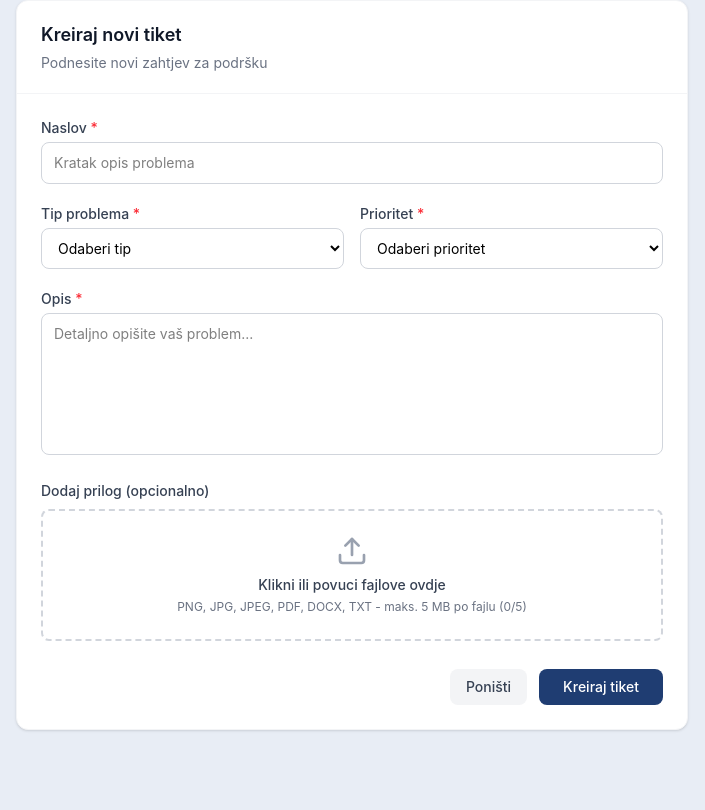
Test: CreateTicket page › shows success message after ticket is created
In the field labelled "Naslov *": (352, 163) [41, 142, 663, 184], type "Internet problem"
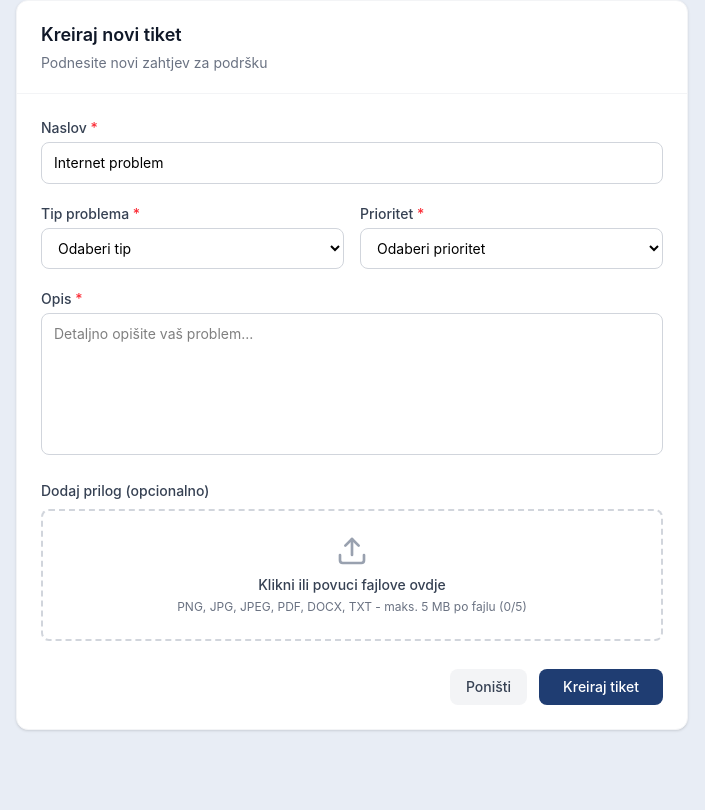
Select "Internet" in the dropdown labelled "Tip problema *": (192, 248) [41, 228, 344, 269]
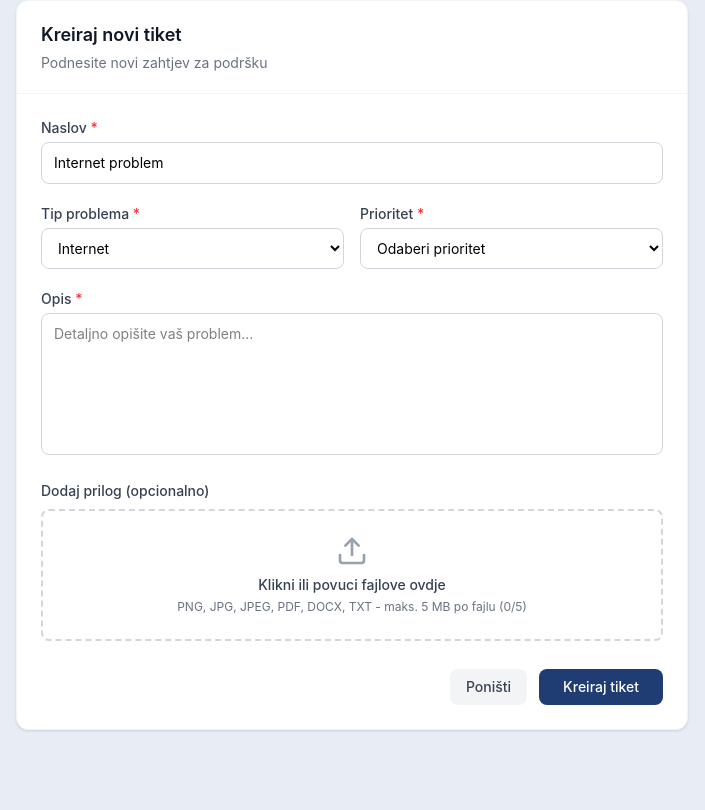
In the text box labelled "Opis *": (352, 384) [41, 313, 663, 455], type "Ne radi internet"
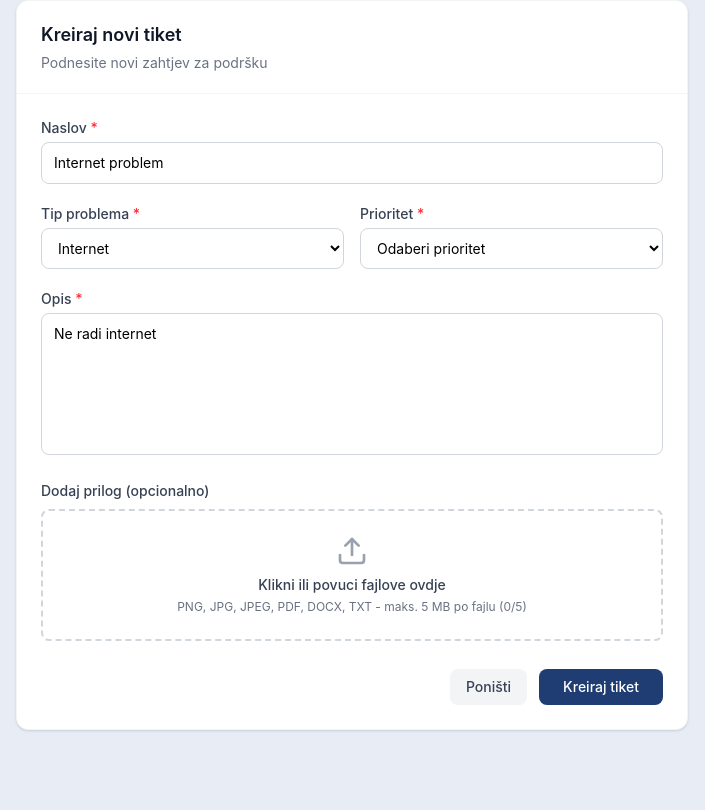
Select "Visok" in the dropdown labelled "Prioritet *": (512, 248) [360, 228, 663, 269]
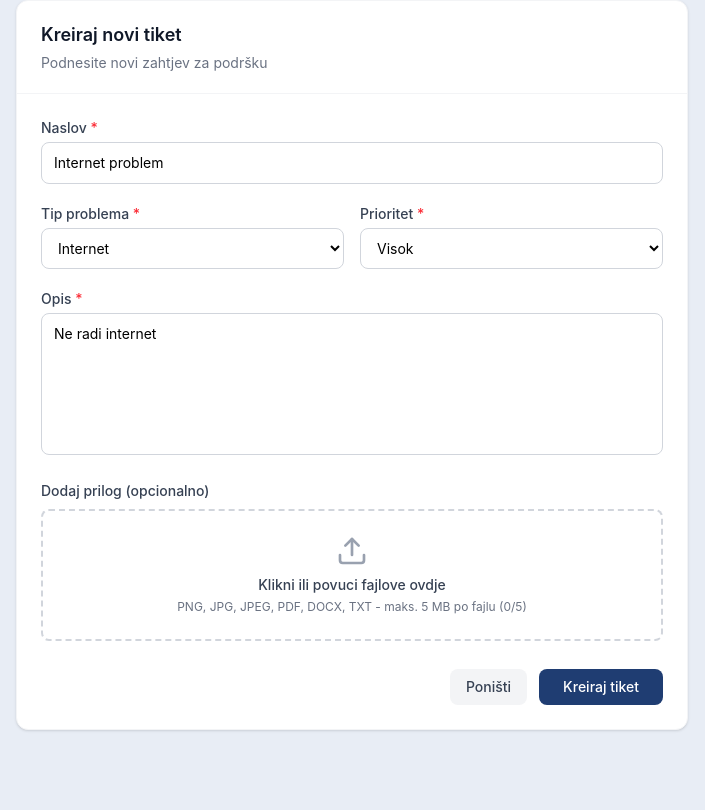
Submit the form named "kreiraj tiket"
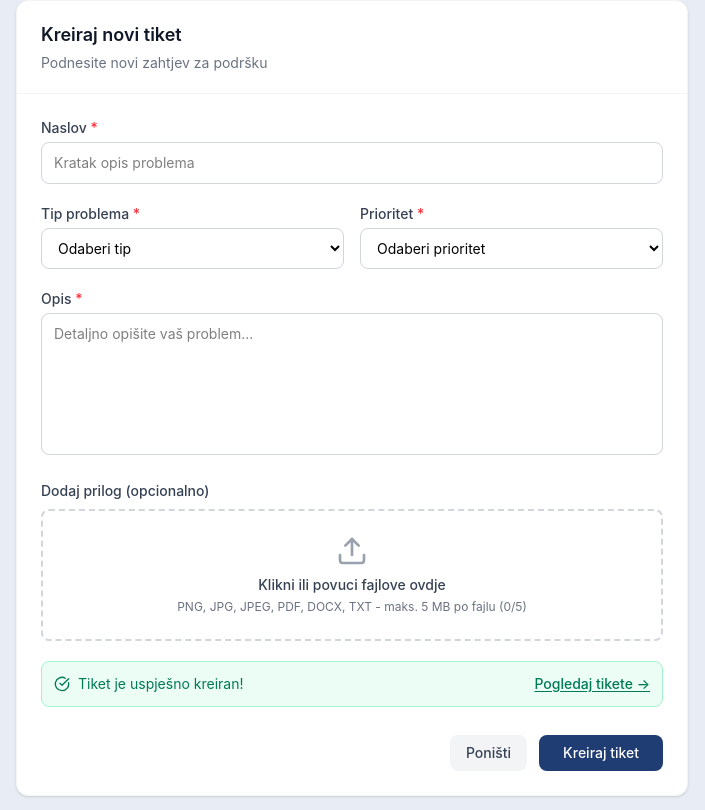
Now the text "Tiket je uspješno kreiran!" is shown, box [78, 674, 244, 694]
